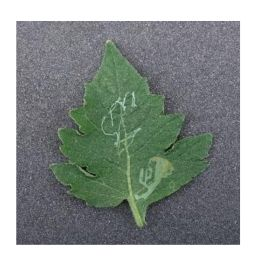liriomyza: (100, 89, 141, 157), (132, 154, 174, 200)
